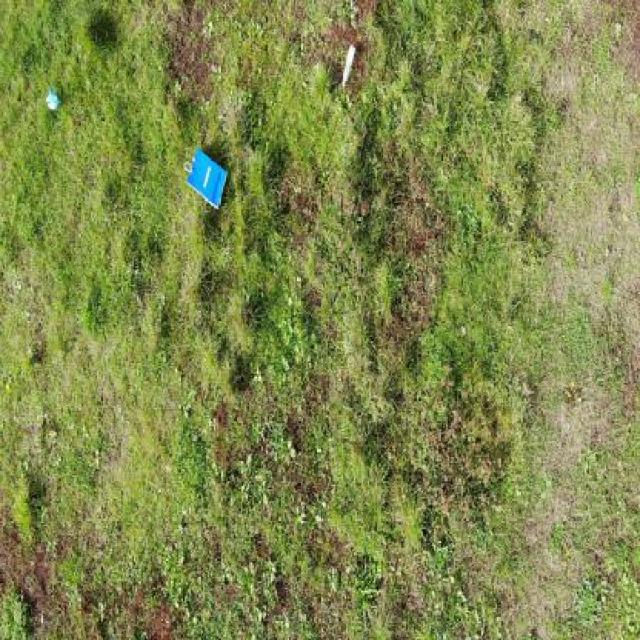Garbage: (186, 147, 229, 209), (342, 44, 356, 89), (44, 88, 61, 109)
